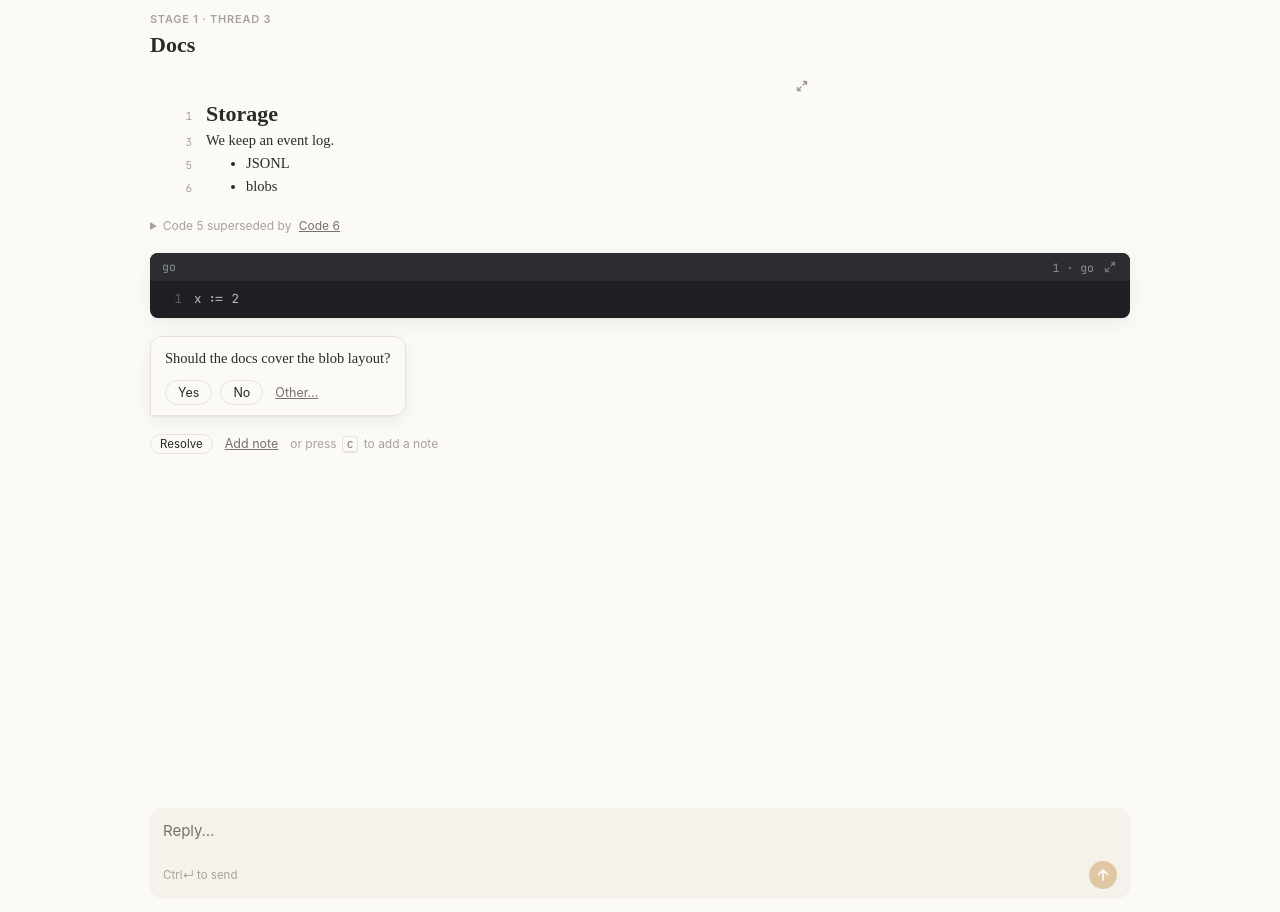
QuestionMessage (question message spec) › keeps the Other text visible and disabled after a successful send, until the answer arrives
Click the button "Other…": [297, 392] box [271, 380, 322, 405]
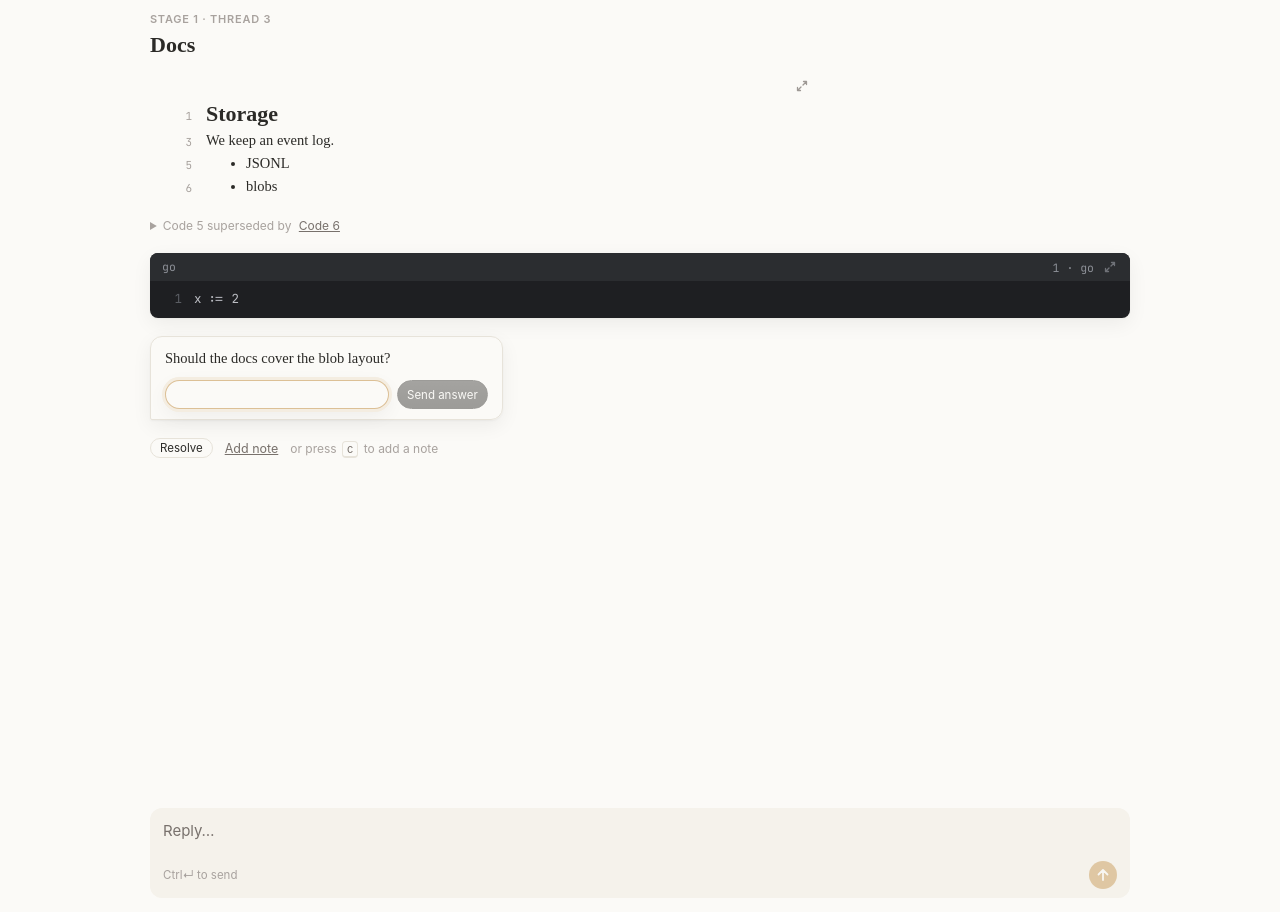
In the field named "Your answer": [277, 395] box [176, 385, 378, 404], type "Later"
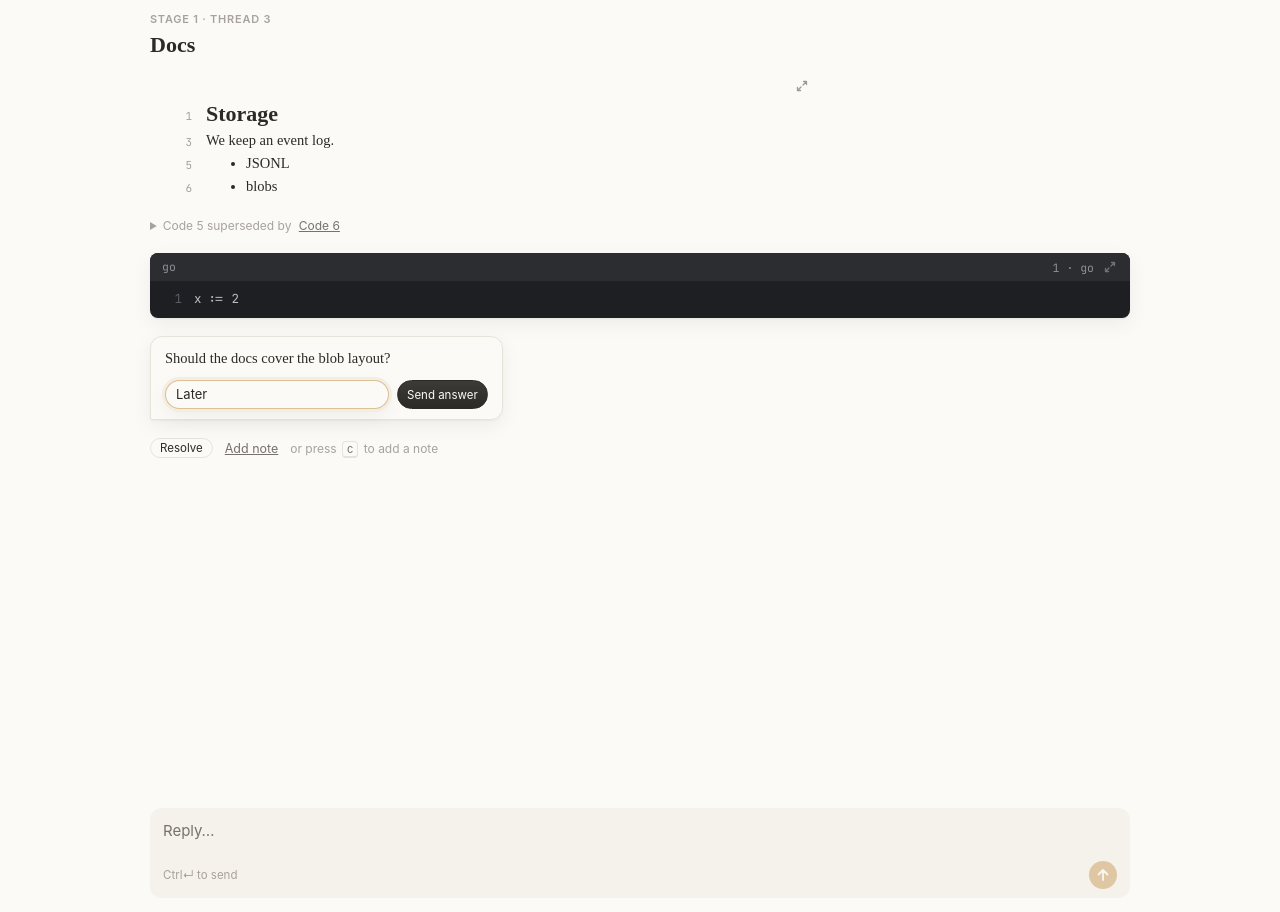
Click the button "Send answer": [442, 395] box [397, 380, 488, 410]
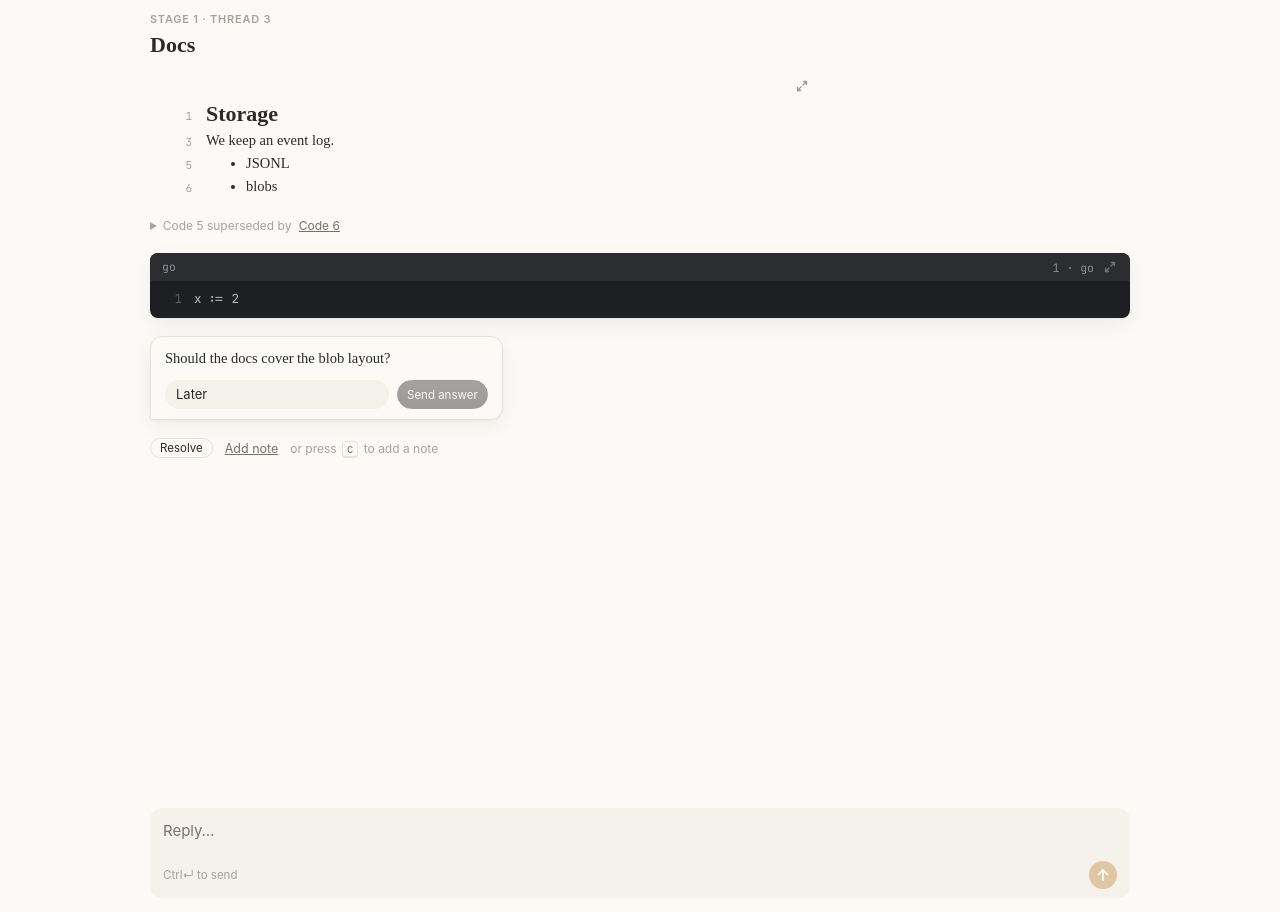
Expected: the field named "Your answer" is disabled, [176, 385, 378, 404]
Expected: the button "Send answer" is disabled, [397, 380, 488, 410]
